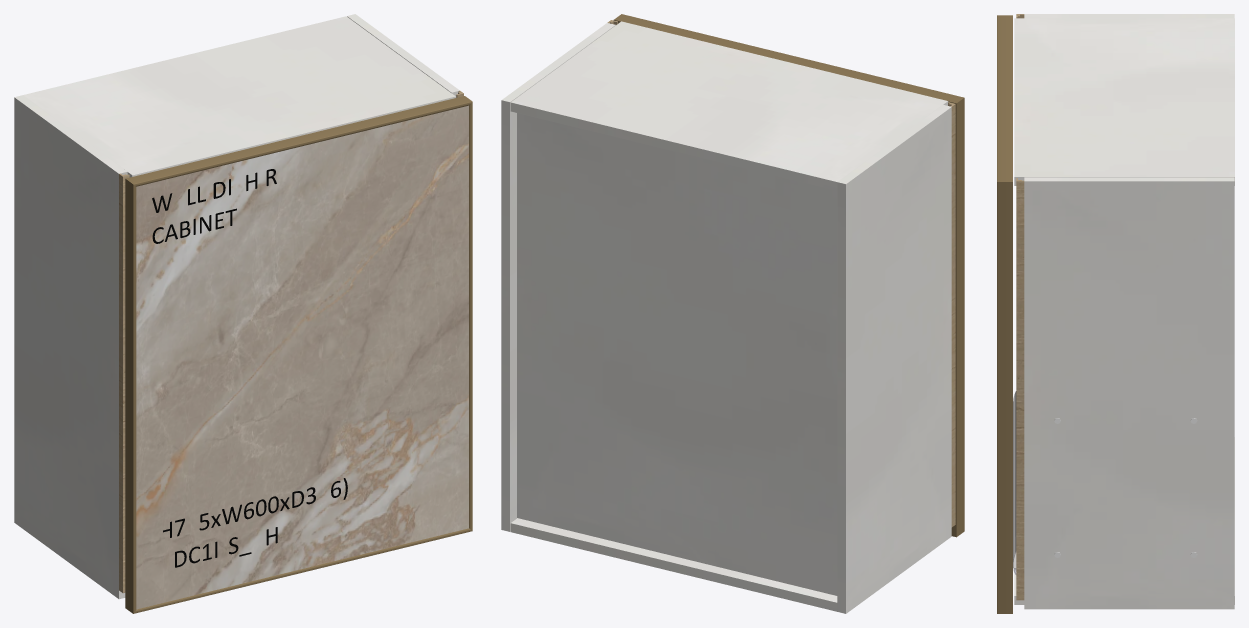
Rendered from WC-AC-NHX-ST-XXX-RHS-DSH-600-725-336-15.glb.
3 renders of one model, left to right at view 1: azimuth 30°, elevation 25°; view 2: azimuth 150°, elevation 25°; view 3: azimuth 270°, elevation 25°, orthographic.
Parts seen in each view (by area): view 1: Object_node_10, TP_node_0, TP, Extrusion_node_1, Extrusion, Object_node_12, Extrusion_node, 2D text_node, Extrusion_node_0, 2D text, TP_node_1; view 2: TP_node_2, TP_node_0, TP, TP_node_1, TP_node, Extrusion_node_1, Extrusion, Object_node_12; view 3: TP_node_1, TP, Extrusion_node, Object_node_20, Extrusion, TP_node_0, Shell_0_0.
Boxes of the visible parts, x1,y1,x2,y2 form: Object_node_10: (136,105,468,609); TP_node_0: (14,95,127,599); TP: (23,16,455,177); Extrusion_node_1: (125,179,136,613); Extrusion: (126,96,472,186); Object_node_12: (119,173,129,593); Extrusion_node: (469,102,472,530); 2D text_node: (163,478,347,567); Extrusion_node_0: (134,528,472,613); 2D text: (152,169,276,243); TP_node_1: (347,14,459,97); TP_node_2: (517,113,837,595); TP_node_0: (837,105,951,613); TP: (510,21,948,190); TP_node_1: (501,23,615,531); TP_node: (510,518,837,611); Extrusion_node_1: (951,98,964,537); Extrusion: (614,14,963,103); Object_node_12: (948,102,955,527); TP_node_1: (1024,177,1234,609); TP: (1014,18,1234,185); Extrusion_node: (997,182,1012,613); Object_node_20: (1016,178,1024,600); Extrusion: (997,15,1012,181); TP_node_0: (1024,14,1234,18); Shell_0_0: (1013,391,1016,568).
Size of what is drawn, in the model's own units: 0.601 by 0.7235 by 0.366.
Materials: 10 (3 with a texture image).
